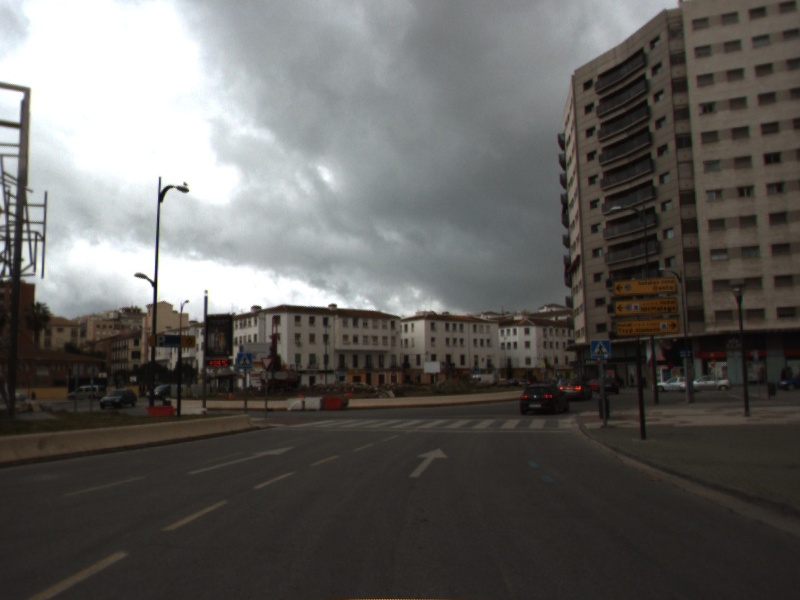STRAIGHT: (183, 444, 298, 477), (406, 446, 451, 480)
